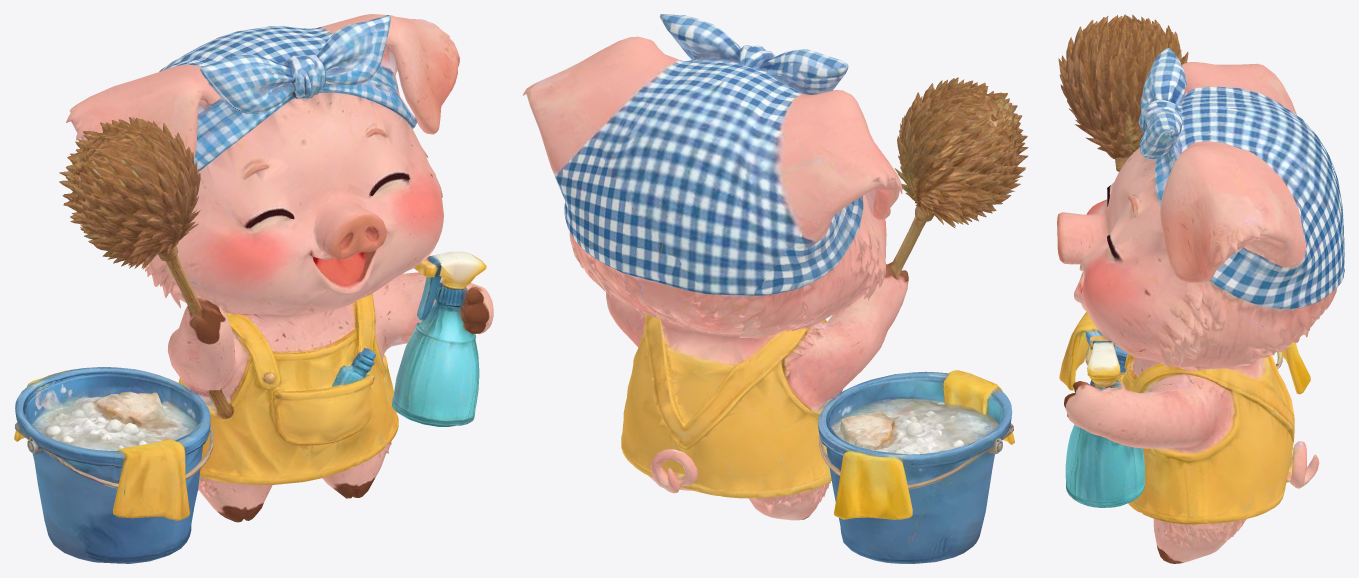
The model's file is cleaning-day-piglet.glb.
3 renders of one model, left to right at view 1: azimuth 30°, elevation 25°; view 2: azimuth 150°, elevation 25°; view 3: azimuth 270°, elevation 25°, orthographic. The views are drawn at different scales.
Bounding box in the file's own units: 1.9 × 1.9 × 1.1.
Materials: 1 (1 with a texture image).
